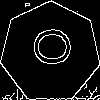O: (25, 27, 71, 67)
